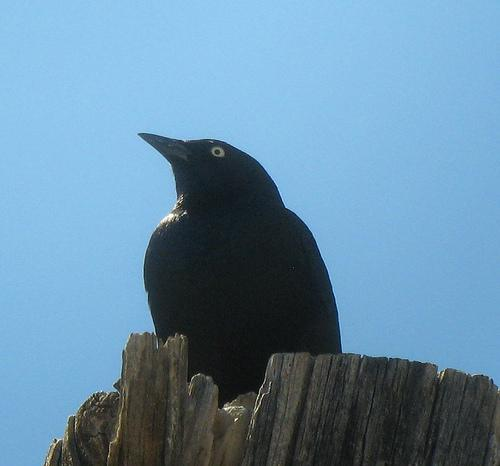009.Brewer_Blackbird: (131, 129, 343, 408)
